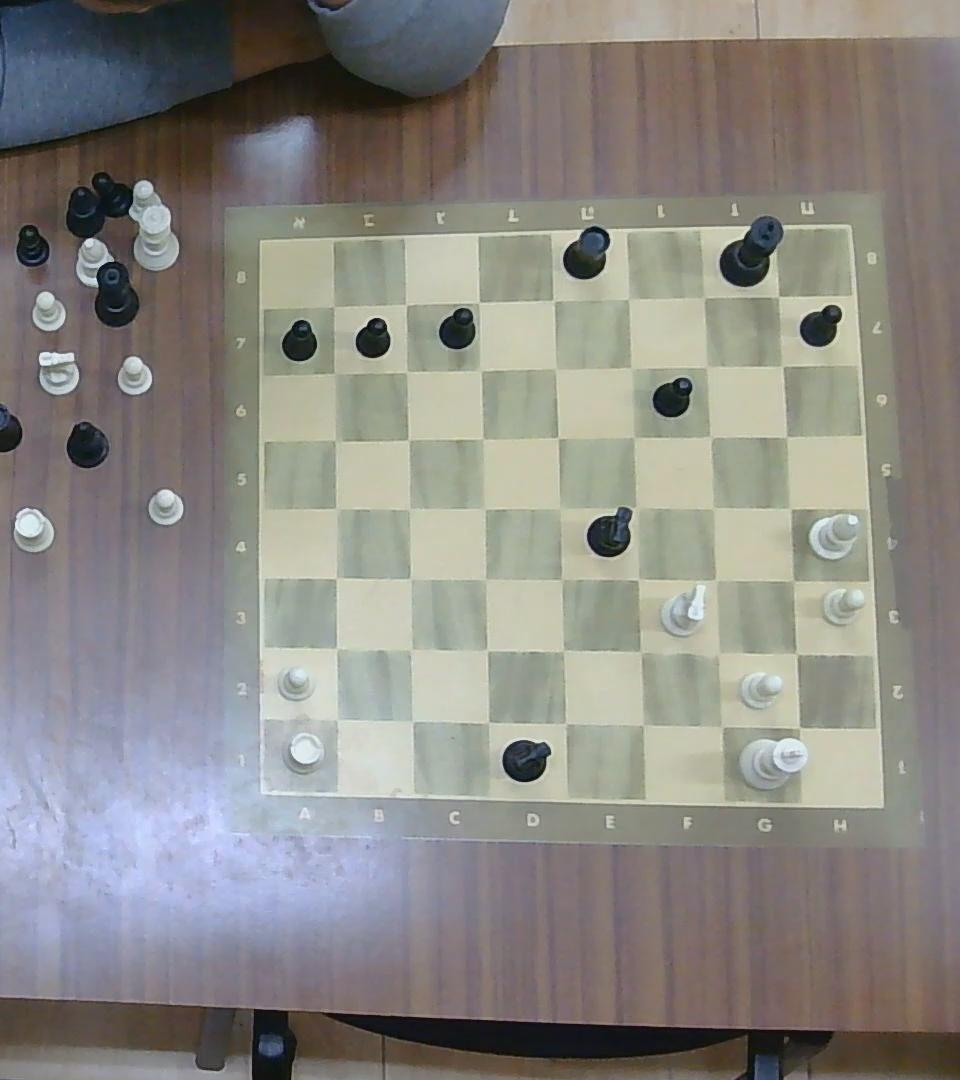xcorner: (781, 710, 815, 743), (702, 636, 734, 669), (626, 707, 658, 740), (705, 708, 736, 742), (625, 635, 656, 667), (471, 706, 502, 738), (320, 703, 351, 734), (781, 637, 812, 668), (548, 707, 580, 737), (622, 563, 652, 594), (471, 634, 501, 665), (548, 634, 578, 665), (396, 705, 427, 735), (700, 565, 730, 595), (470, 564, 500, 593), (698, 493, 728, 522), (776, 493, 806, 522), (621, 493, 651, 522), (548, 563, 576, 594), (395, 635, 424, 664), (321, 562, 350, 591), (321, 633, 350, 662), (393, 424, 422, 453), (619, 422, 648, 451), (777, 566, 807, 594), (471, 493, 499, 522), (545, 493, 573, 522), (395, 493, 423, 522), (545, 422, 573, 451), (467, 422, 495, 451), (323, 493, 351, 522), (539, 284, 567, 313), (395, 564, 423, 592), (617, 352, 645, 380), (321, 425, 350, 452), (542, 354, 570, 381), (615, 285, 643, 312), (693, 352, 721, 379), (769, 352, 797, 379), (698, 423, 725, 450), (772, 422, 800, 448), (320, 292, 348, 318), (392, 356, 419, 382), (321, 360, 349, 385), (467, 354, 492, 381), (393, 291, 419, 316), (465, 289, 491, 314), (691, 284, 716, 309), (766, 284, 791, 309)
